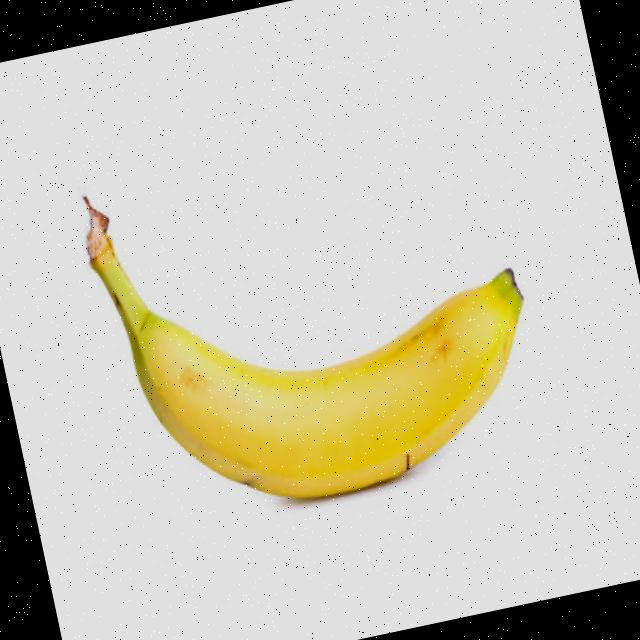Ripe: (82, 152, 556, 538)
